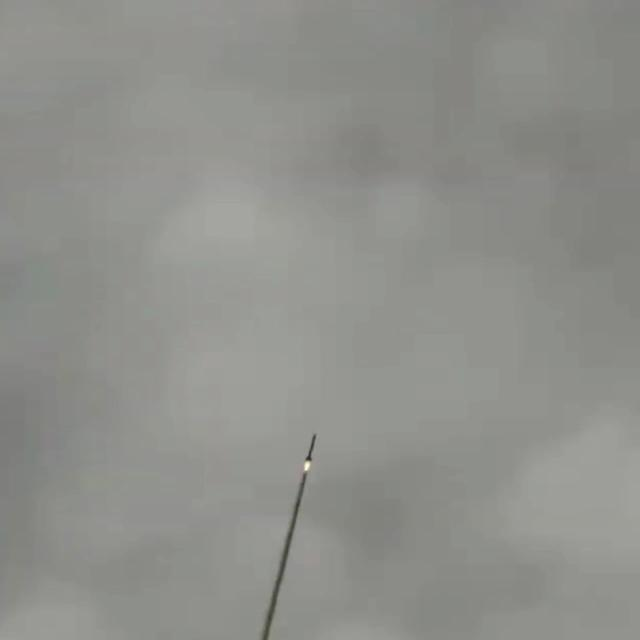smoke_trail_with_rocket: (257, 433, 317, 640)
